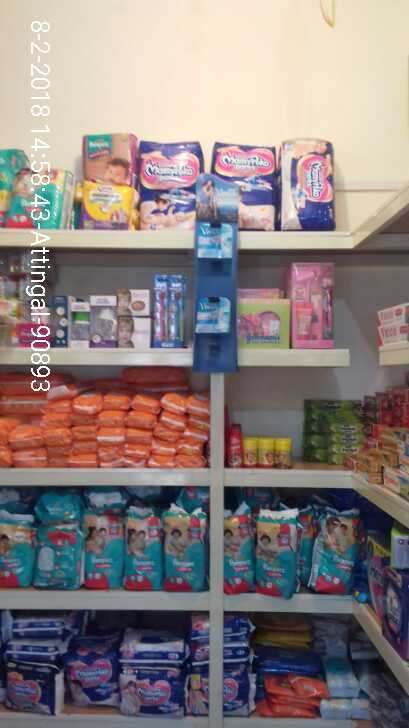pharmacy: (305, 507, 366, 598), (255, 498, 295, 603), (7, 158, 65, 230), (77, 130, 141, 182), (164, 514, 205, 586), (86, 512, 123, 590), (125, 510, 157, 591), (37, 531, 78, 592), (222, 506, 251, 588), (1, 524, 39, 586)
venus: (188, 294, 237, 338), (195, 219, 234, 258)
